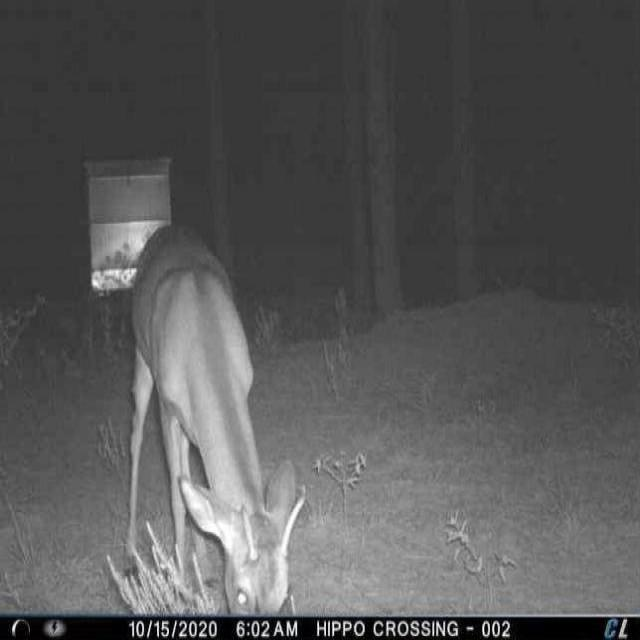deer: (124, 220, 310, 617)
